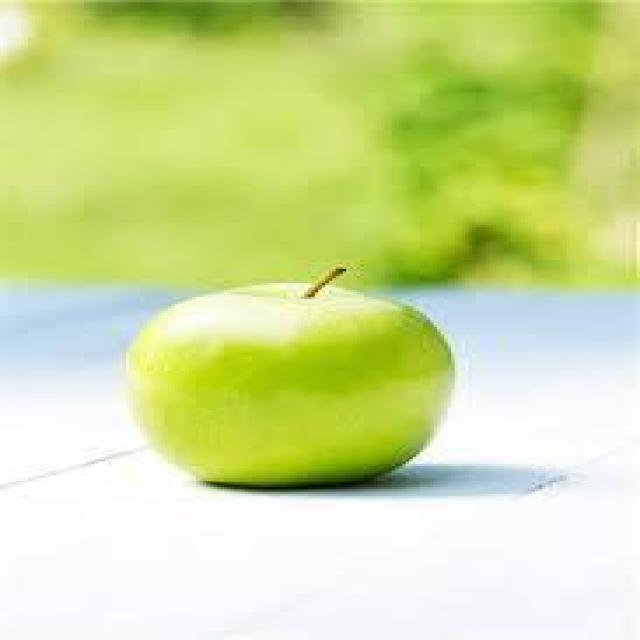maca: (122, 264, 454, 487)
